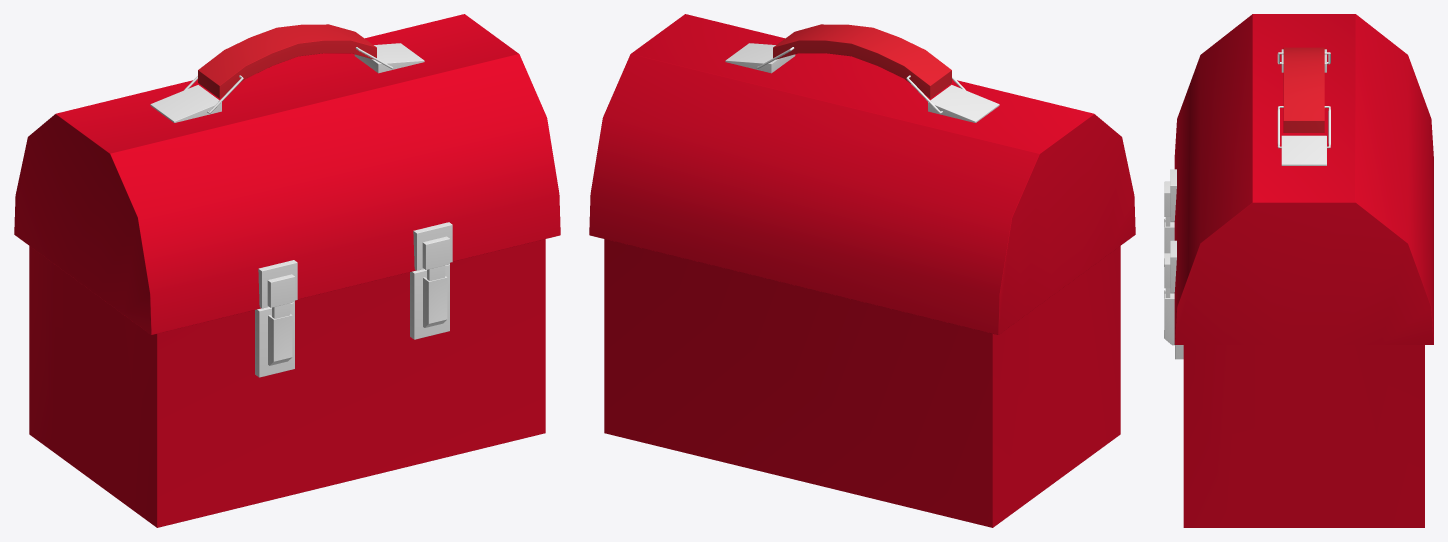
The model's file is LunchBox.fbx.
3 views of the same model, side by side, from view 1: azimuth 30°, elevation 25°; view 2: azimuth 150°, elevation 25°; view 3: azimuth 270°, elevation 25° (orthographic). The views are drawn at different scales.
Parts seen in each view (by area): view 1: LunchBox; view 2: LunchBox; view 3: LunchBox.
Part boxes in pixels (left/top/right/bottom): LunchBox: left=14, top=14, right=560, bottom=527; LunchBox: left=589, top=14, right=1135, bottom=527; LunchBox: left=1164, top=14, right=1433, bottom=527.
Size of the model in its own units: 431 by 401 by 261.
